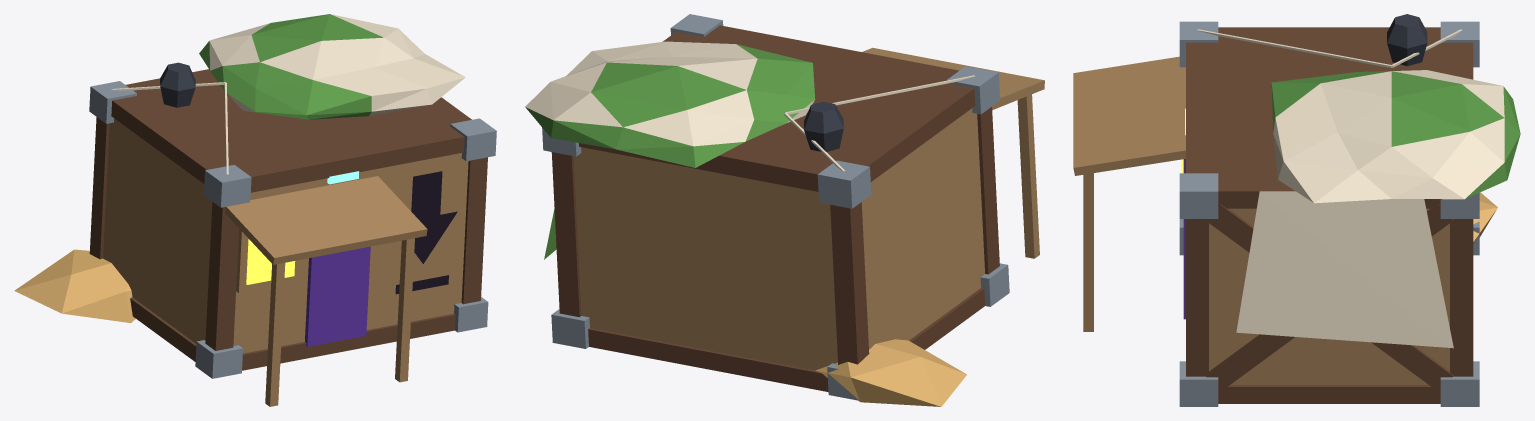
Rendered from Bldg_Home_CrateShack.fbx.
The picture shows the model from 3 angles, left to right: view 1: azimuth 30°, elevation 25°; view 2: azimuth 150°, elevation 25°; view 3: azimuth 270°, elevation 25°; orthographic projection. The views are drawn at different scales.
Visible parts, largest first — view 1: Bldg_Home_CrateShack_Body, Bldg_Home_CrateShack_Parachute, Bldg_Home_CrateShack_Door; view 2: Bldg_Home_CrateShack_Body, Bldg_Home_CrateShack_Parachute; view 3: Bldg_Home_CrateShack_Body, Bldg_Home_CrateShack_Parachute.
Boxes of the visible parts, bbox=[...] form: Bldg_Home_CrateShack_Body: bbox=[14, 62, 496, 406]; Bldg_Home_CrateShack_Parachute: bbox=[111, 14, 465, 174]; Bldg_Home_CrateShack_Door: bbox=[305, 246, 370, 346]; Bldg_Home_CrateShack_Body: bbox=[542, 14, 1044, 406]; Bldg_Home_CrateShack_Parachute: bbox=[525, 41, 974, 259]; Bldg_Home_CrateShack_Body: bbox=[1073, 14, 1497, 406]; Bldg_Home_CrateShack_Parachute: bbox=[1197, 29, 1520, 348].
Bounding box in the file's own units: 6.46 × 3.85 × 5.76.
